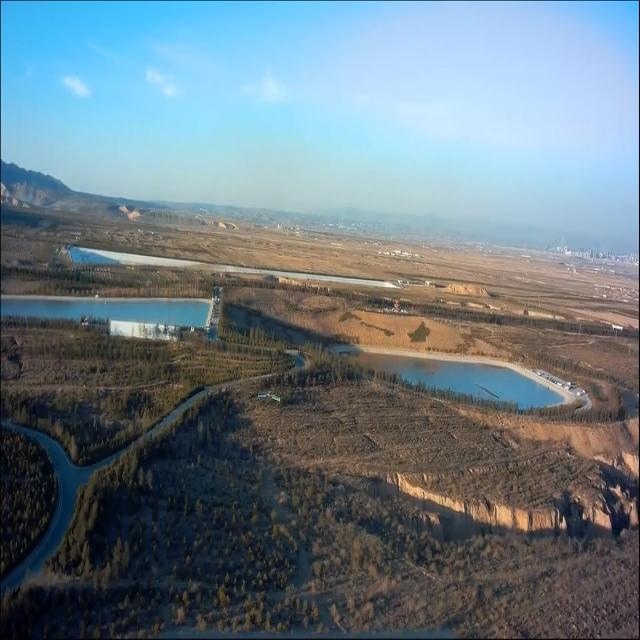iha: (257, 390, 280, 403)
